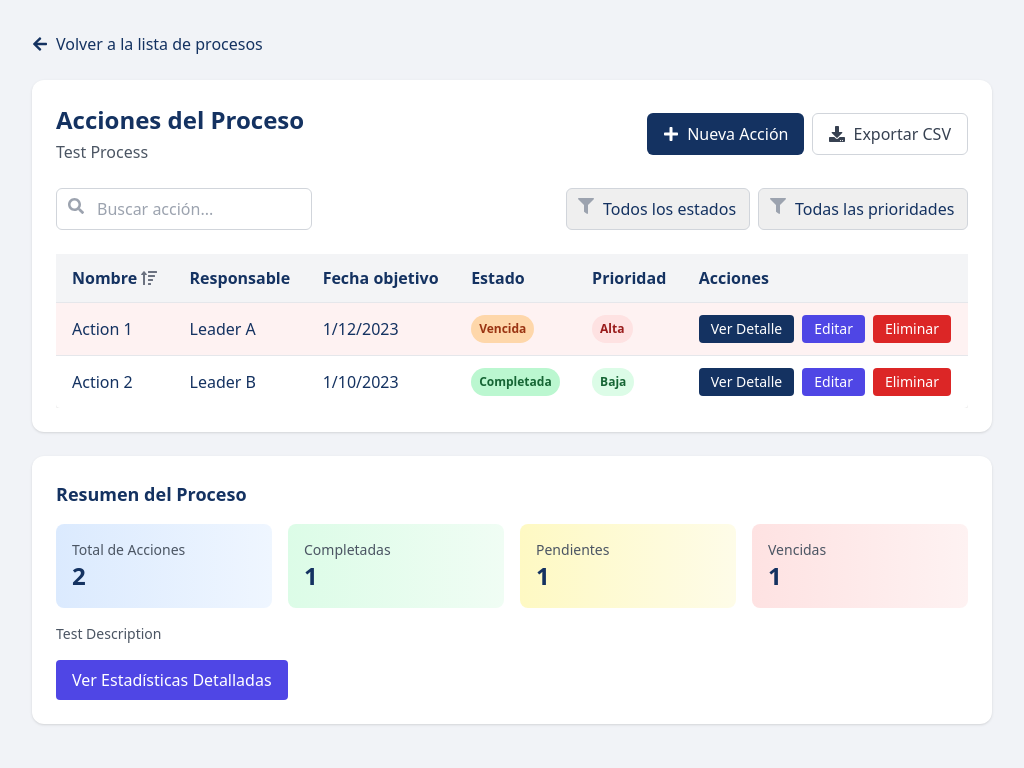
Test: ActionsList › should open new action modal and show validation errors
Check: the text "Action 1" is shown, box [56, 302, 174, 356]
Open modal
Click the button "Nueva Acción".
click(726, 134)  # box [647, 113, 804, 155]
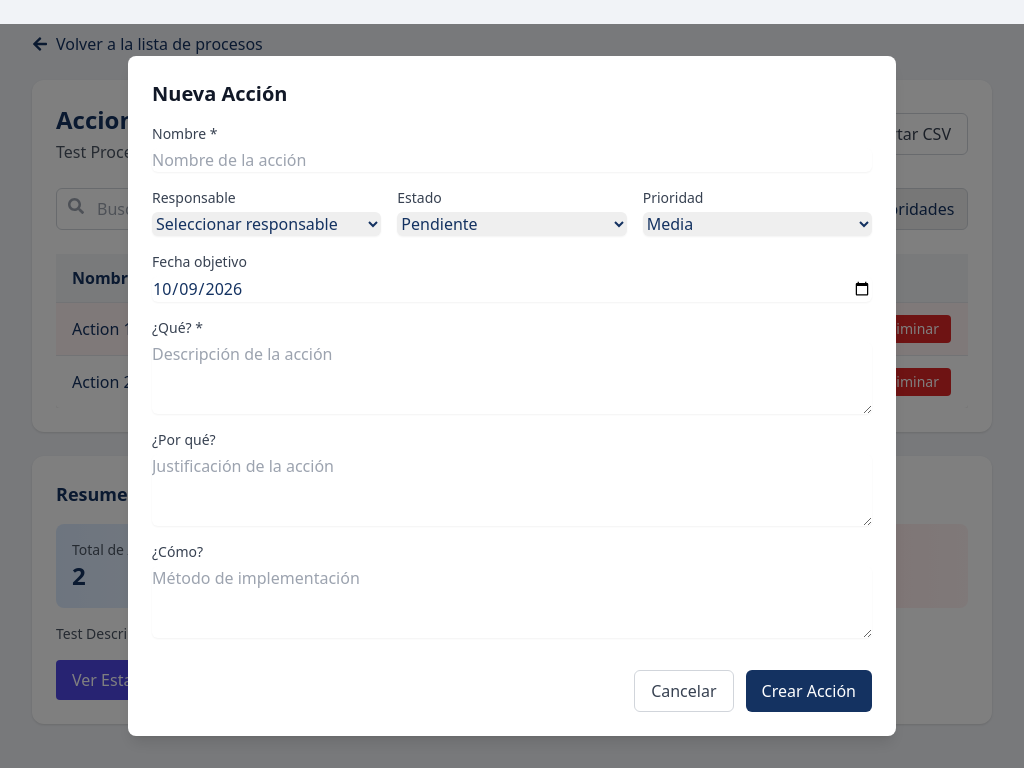
Check: the button "Crear Acción" is shown
Submit empty form
Click the button "Crear Acción".
click(809, 691)  # box [746, 670, 872, 712]
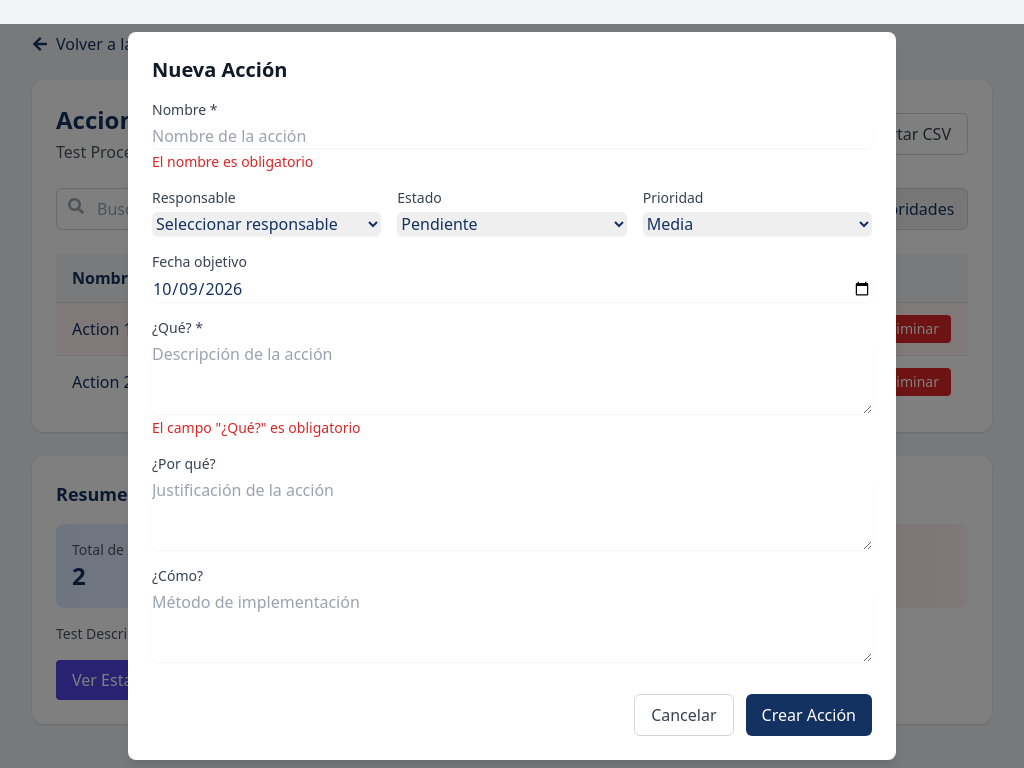
Check: the text "El nombre es obligatorio" is shown, box [152, 152, 313, 171]
Check: the text "El campo \"¿Qué?\" es obligatorio" is shown, box [152, 418, 360, 437]
